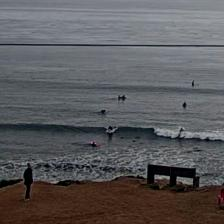surfer: (118, 94, 125, 100), (89, 142, 99, 146), (108, 125, 114, 131), (99, 109, 106, 113), (183, 102, 187, 108), (180, 128, 186, 132), (192, 80, 194, 87)
